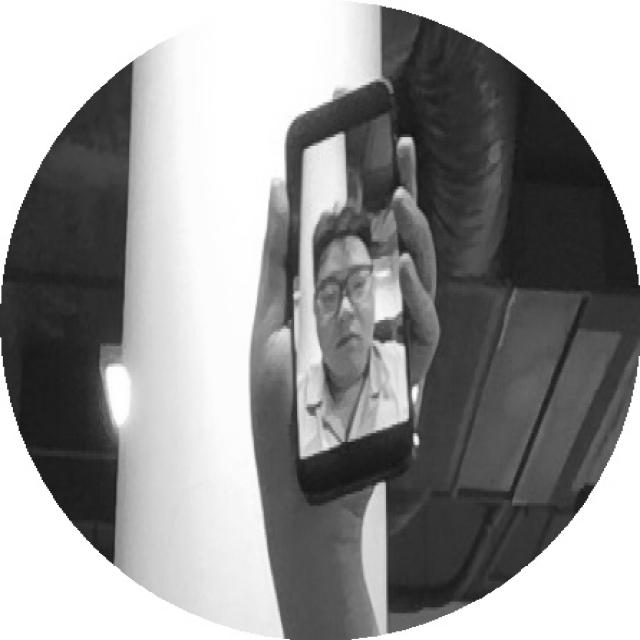fake: (262, 63, 468, 524), (276, 73, 436, 525)
